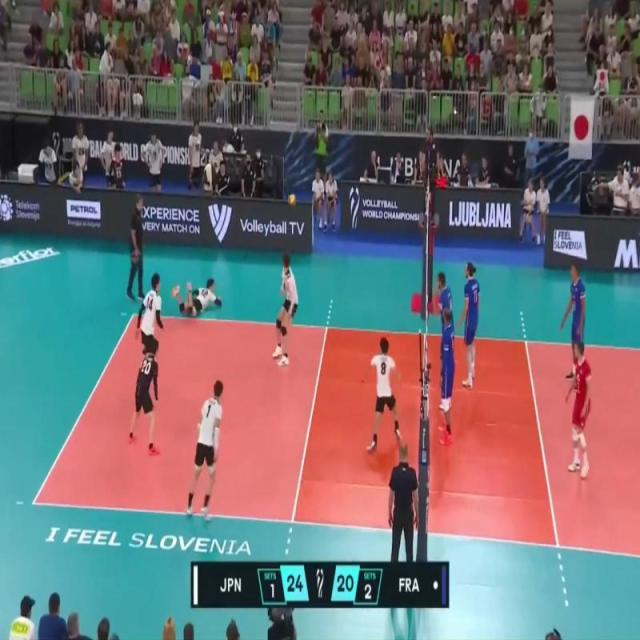volleyball: (288, 192, 296, 208)
